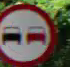No overtake: (0, 3, 59, 63)
